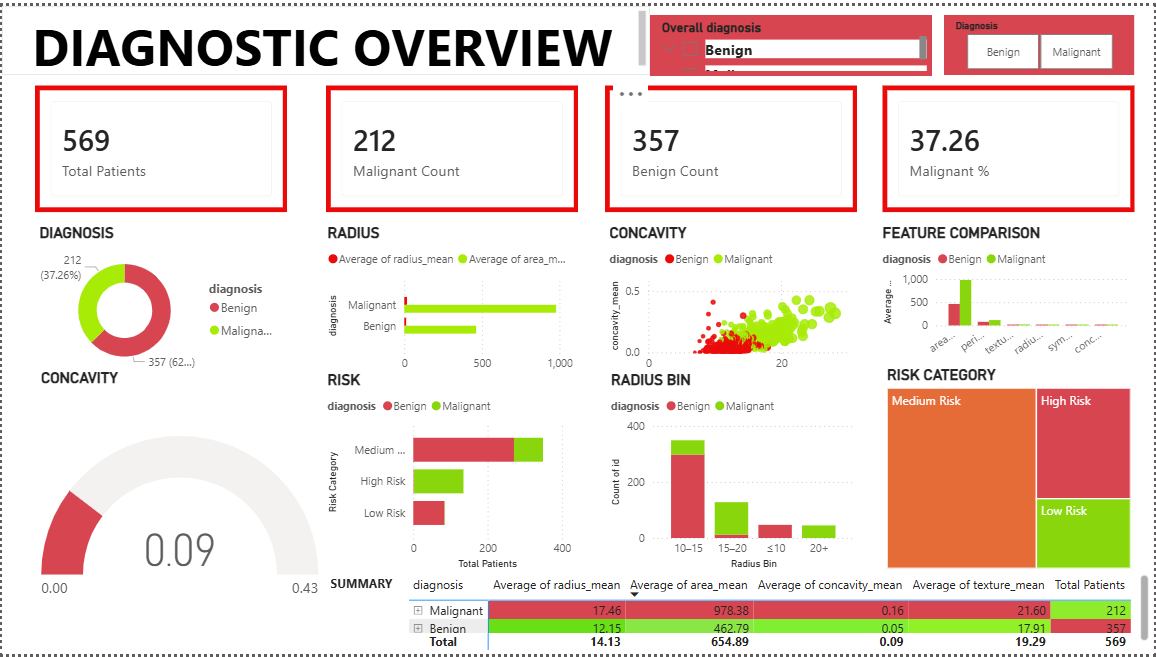

What the dashboard file says about the page in this screenshot:
{"tool":"powerbi","page":{"name":"Page 1","canvas":[1280,720],"ordinal":0},"visuals":[{"type":"cardVisual","fields":{"Data":["breast-cancer.Total Patients"]},"box":[37.2,89.1,280.1,140.9],"z":0},{"type":"cardVisual","fields":{"Data":["breast-cancer.Malignant Count"]},"box":[359.5,89.1,280.1,140.9],"z":1000},{"type":"cardVisual","fields":{"Data":["breast-cancer.Benign Count"]},"box":[670.4,89.1,280.1,140.9],"z":2000},{"type":"cardVisual","fields":{"Data":["breast-cancer.Malignant %"]},"box":[978,89.1,280.1,140.9],"z":3000},{"type":"donutChart","title":"DIAGNOSIS","fields":{"Category":["breast-cancer.diagnosis"],"Y":["breast-cancer.Total Patients"]},"box":[36.9,242.1,280.1,172.9],"z":4000},{"type":"clusteredBarChart","title":"RADIUS","fields":{"Category":["breast-cancer.diagnosis"],"Y":["Avg(breast-cancer.radius_mean)","Avg(breast-cancer.area_mean)"]},"box":[357.4,242.1,282.4,172.9],"z":5000},{"type":"slicer","fields":{"Values":["breast-cancer.diagnosis"]},"box":[1045.9,10.4,211.3,67],"z":6000},{"type":"scatterChart","title":"CONCAVITY","fields":{"X":["breast-cancer.radius_mean"],"Y":["breast-cancer.concavity_mean"],"Series":["breast-cancer.diagnosis"],"Size":["Sum(breast-cancer.area_mean)"]},"box":[669.8,242.1,281.3,172.9],"z":7000},{"type":"clusteredColumnChart","title":"FEATURE COMPARISON","fields":{"Category":["breast-cancer (2).Feature"],"Y":["Avg(breast-cancer (2).Value)"],"Series":["breast-cancer (2).diagnosis"]},"box":[973,242.1,284.7,157.9],"z":8000},{"type":"gauge","title":"CONCAVITY","fields":{"Y":["breast-cancer.Avg Concavity"]},"box":[38,404,318,314],"z":9000},{"type":"treemap","title":"RISK CATEGORY","fields":{"Group":["breast-cancer.Risk Category"],"Values":["breast-cancer.Total Patients"]},"box":[977.6,400,280.1,229.4],"z":10000},{"type":"barChart","title":"RISK","fields":{"Category":["breast-cancer.Risk Category"],"Y":["breast-cancer.Total Patients"],"Series":["breast-cancer.diagnosis"]},"box":[357.4,404.6,280.1,224.8],"z":11000},{"type":"columnChart","title":"RADIUS BIN","fields":{"Category":["breast-cancer.Radius Bin"],"Y":["CountNonNull(breast-cancer.id)"],"Series":["breast-cancer.diagnosis"]},"box":[670.9,404.6,280.1,224.8],"z":12000},{"type":"pivotTable","fields":{"Rows":["breast-cancer.diagnosis","breast-cancer.Risk Category"],"Values":["Avg(breast-cancer.radius_mean)","Avg(breast-cancer.area_mean)","Avg(breast-cancer.concavity_mean)","Avg(breast-cancer.texture_mean)","breast-cancer.Total Patients"]},"box":[447.3,626.5,832.2,94.2],"z":13000},{"type":"textbox","box":[0,0,720.1,77.4],"z":14000},{"type":"textbox","box":[359.7,626.5,87.6,92.9],"z":15000},{"type":"slicer","fields":{"Values":["breast-cancer.diagnosis","breast-cancer.area_mean","breast-cancer.Risk Category","breast-cancer.radius_mean"]},"box":[720.1,10.4,312.4,67],"z":15001}]}

Visuals, with their boxes in screenshot pixels (x1, y1, x2, y2), scaled from the page's 1280x720 canvas onto the 1156x657 screenshot:
cardVisual - breast-cancer.Total Patients: <region>34, 81, 287, 210</region>
cardVisual - breast-cancer.Malignant Count: <region>325, 81, 578, 210</region>
cardVisual - breast-cancer.Benign Count: <region>605, 81, 858, 210</region>
cardVisual - breast-cancer.Malignant %: <region>883, 81, 1136, 210</region>
"DIAGNOSIS" donutChart: <region>33, 221, 286, 379</region>
"RADIUS" clusteredBarChart: <region>323, 221, 578, 379</region>
slicer - breast-cancer.diagnosis: <region>945, 9, 1135, 71</region>
"CONCAVITY" scatterChart: <region>605, 221, 859, 379</region>
"FEATURE COMPARISON" clusteredColumnChart: <region>879, 221, 1136, 365</region>
"CONCAVITY" gauge: <region>34, 369, 322, 655</region>
"RISK CATEGORY" treemap: <region>883, 365, 1136, 574</region>
"RISK" barChart: <region>323, 369, 576, 574</region>
"RADIUS BIN" columnChart: <region>606, 369, 859, 574</region>
pivotTable - breast-cancer.diagnosis x breast-cancer.Risk Category: <region>404, 572, 1155, 656</region>
textbox: <region>0, 0, 650, 71</region>
textbox: <region>325, 572, 404, 656</region>
slicer - breast-cancer.diagnosis x breast-cancer.area_mean: <region>650, 9, 932, 71</region>
